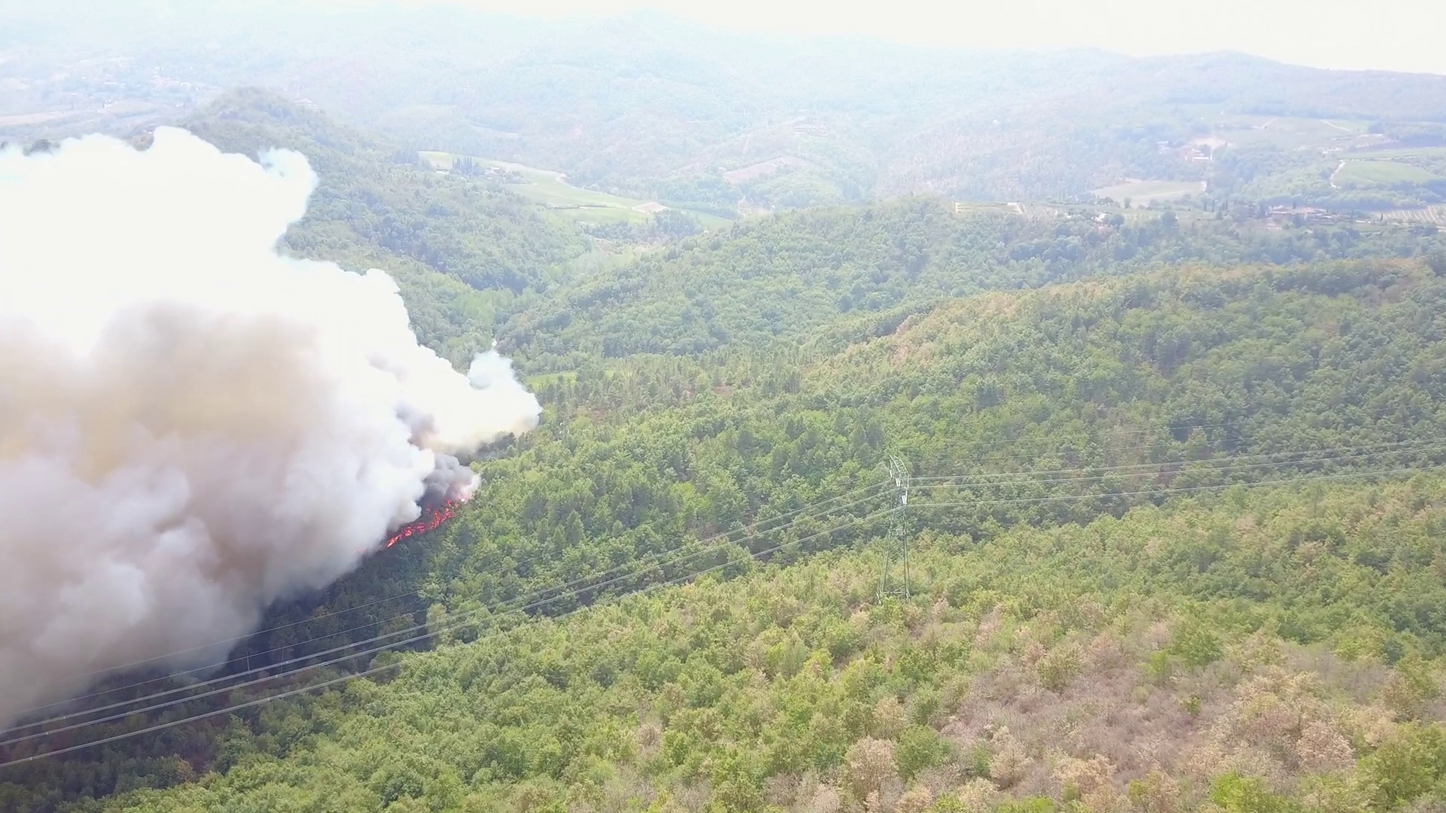forest_fire: (383, 500, 460, 547)
